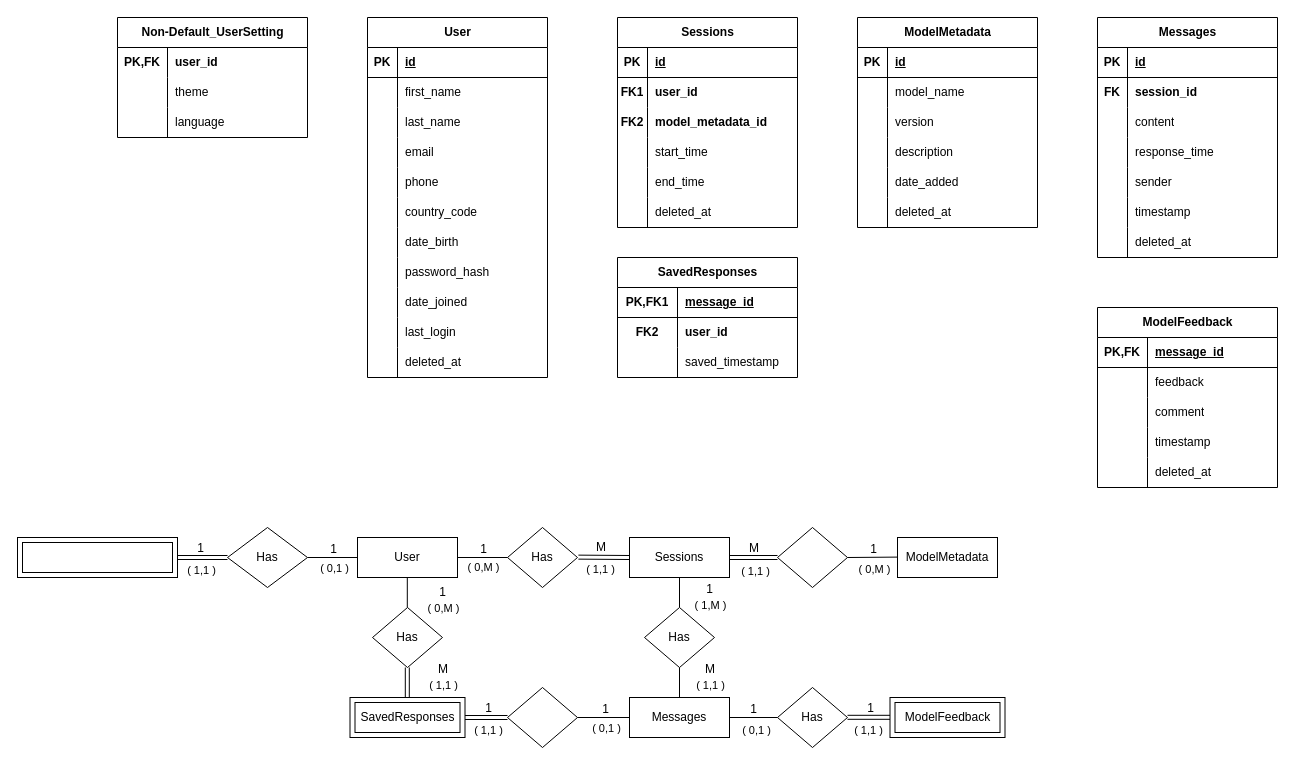
The diagram is 1295 pixels wide and 765 high, and some of its shapes have lost their labels. Here are the shapes that lost their labels. From the top down, the centre of each, then its label:
At point (97, 557): "Non-Default_UserSettings".
At point (812, 557): "Use".
At point (542, 717): "Save".
